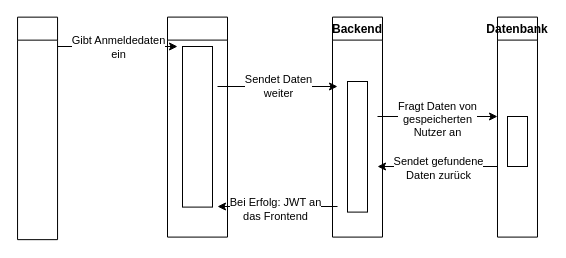
This 566x258 diagram has some shape labels left out. The box of each missing label's shape, as (x1, y1, x2, y2) in pixels:
Frontend: (166, 16, 228, 237)
Nutzer: (16, 16, 58, 240)
